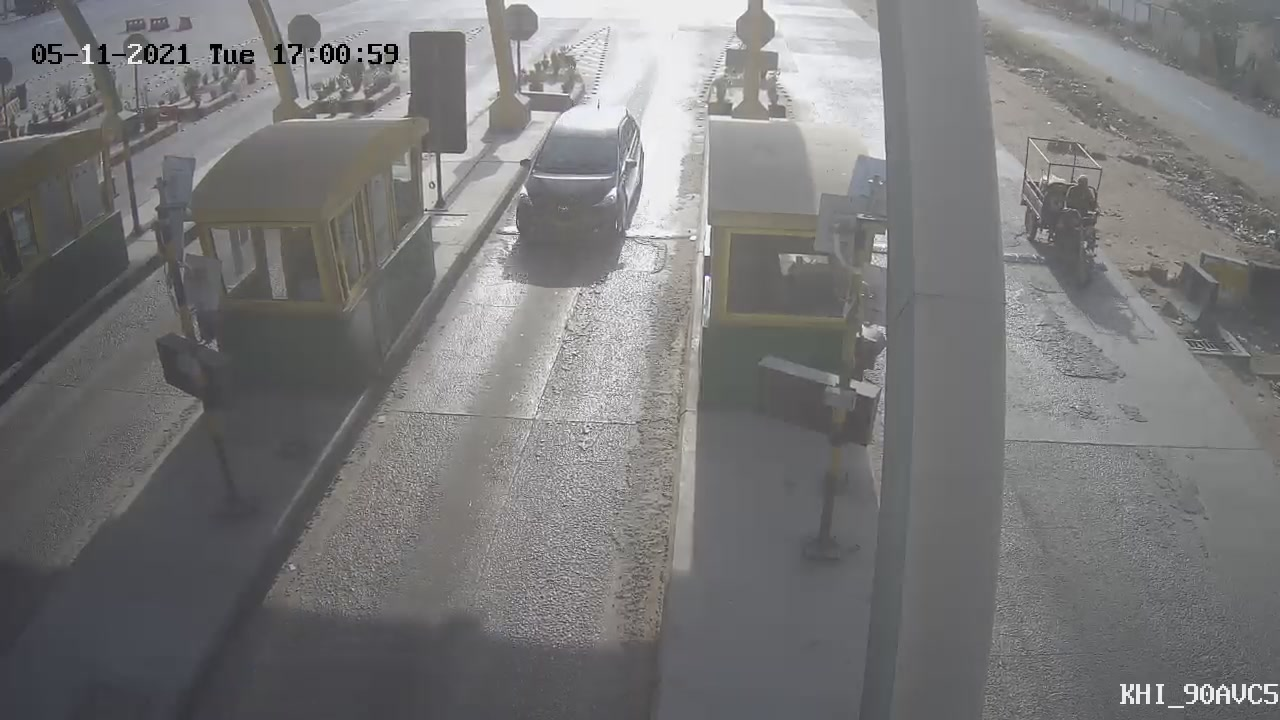F1: (494, 86, 664, 275)
